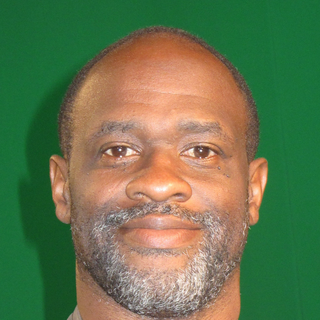eye: (178, 140, 224, 165), (97, 140, 143, 165)
